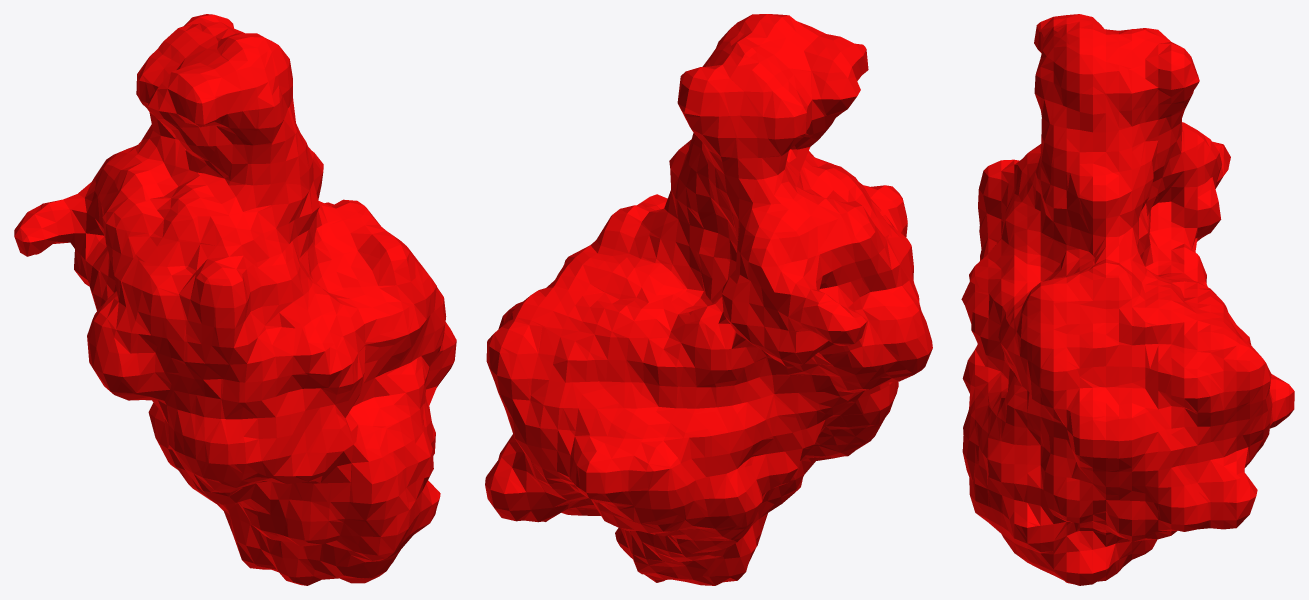
Rendered from narH_coarse.dae.
The picture shows the model from 3 angles, left to right: view 1: azimuth 30°, elevation 25°; view 2: azimuth 150°, elevation 25°; view 3: azimuth 270°, elevation 25°; orthographic projection. The views are drawn at different scales.
Visible parts, largest first — view 1: narH; view 2: narH; view 3: narH.
Boxes of the visible parts, x1,y1,x2,y2 form: narH: (14,14,456,585); narH: (485,14,932,585); narH: (961,14,1294,585).
Bounding box in the file's own units: 103 × 147 × 87.37.
